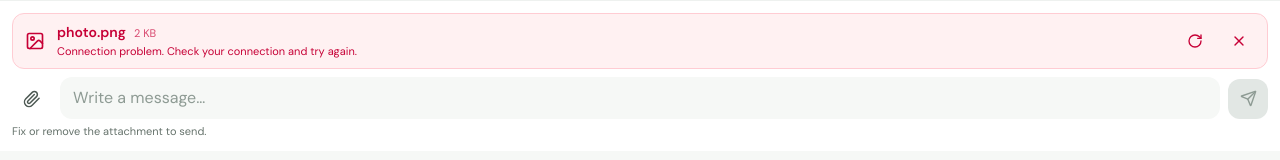
MessageComposer - attachments › choosing a file › shows a failed upload, offers a safe retry, and succeeds on the second try
Earlier steps of the test are not shown.
Check: the button named "Attach an image, PDF or Excel file" is shown, box 12,79 -> 52,119
Check: the message "Connection problem. Check your connection and try again." is shown, box 57,44 -> 357,58
What coordinates should you click on to do the following:
click the button named "Try uploading again"
I would click on:
 (1195, 41)
Its box is 1179,25 -> 1211,57.
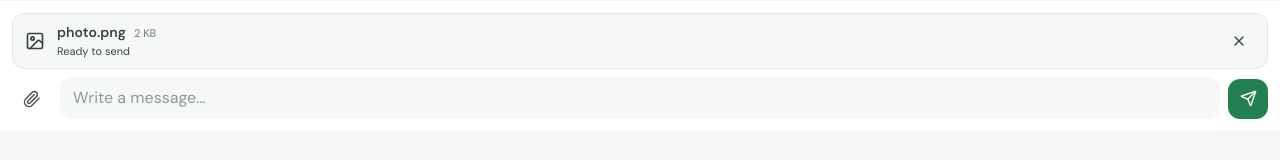
Check: the text "Ready to send" is shown, box 57,44 -> 130,58
